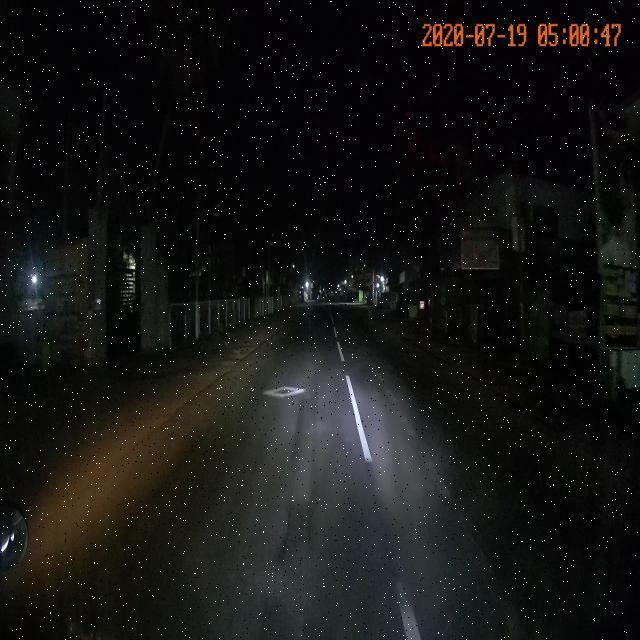diamond: (175, 374, 368, 418)
